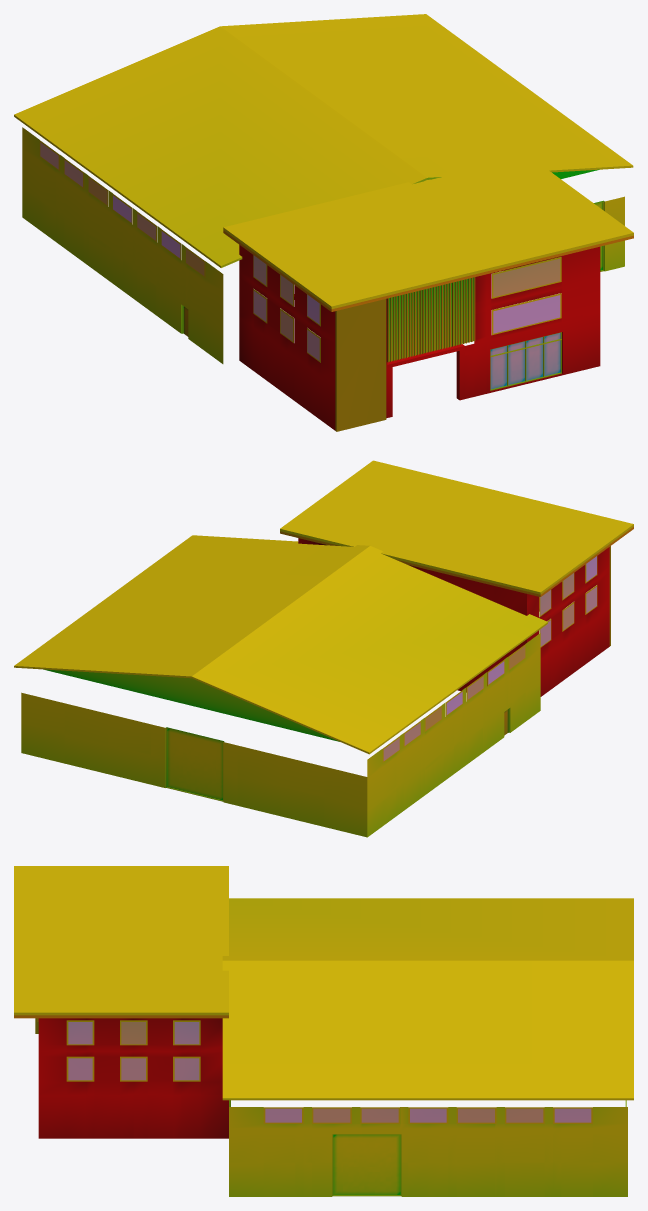
File: factory.glb
3 renders of one model, top to bottom at view 1: azimuth 30°, elevation 25°; view 2: azimuth 150°, elevation 25°; view 3: azimuth 270°, elevation 25°, orthographic. The views are drawn at different scales.
Visible parts, largest first — view 1: factory__shed__LOD0; view 2: factory__shed__LOD0; view 3: factory__shed__LOD0.
Part boxes in pixels (box(x1,y1,x2,y2)): factory__shed__LOD0: box(14, 14, 633, 431); factory__shed__LOD0: box(14, 460, 633, 837); factory__shed__LOD0: box(14, 866, 633, 1196).
Size of what is drawn, in the model's own units: 30.8 by 10 by 40.4.
